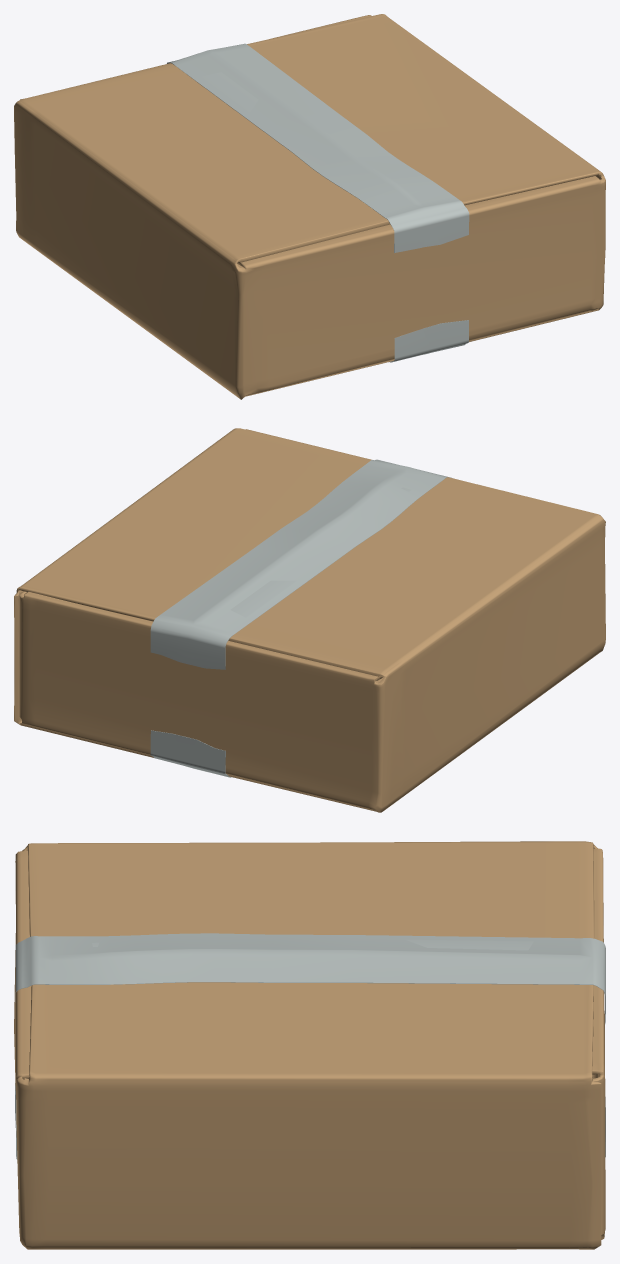
File: box_flat_a01.glb
3 views of the same model, one above another, from view 1: azimuth 30°, elevation 25°; view 2: azimuth 150°, elevation 25°; view 3: azimuth 270°, elevation 25° (orthographic). The views are drawn at different scales.
Bounding box in the file's own units: 0.1501 × 0.058 × 0.16.
